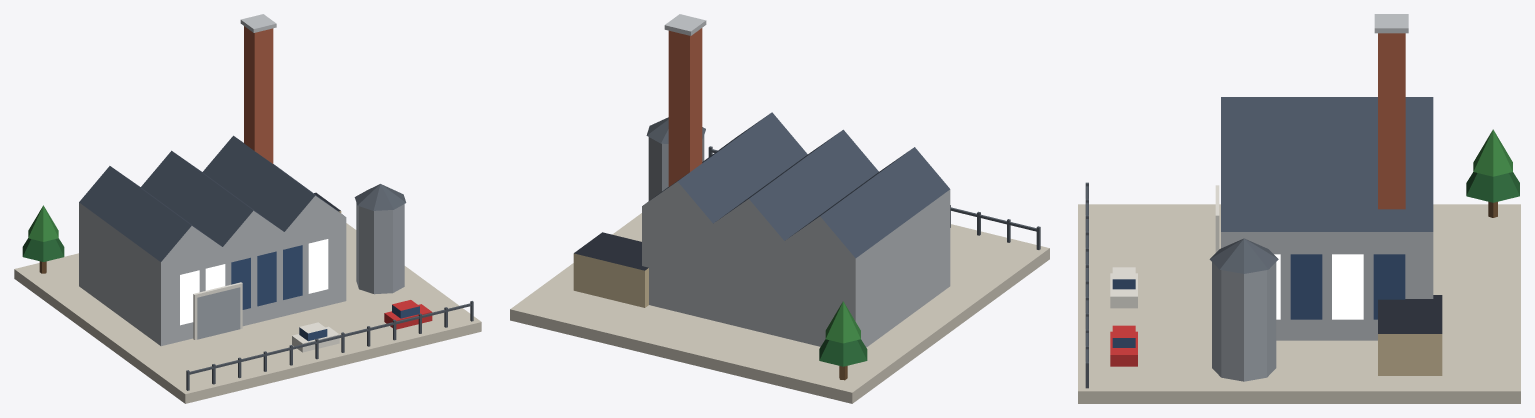
3 views of the same model, side by side, from view 1: azimuth 30°, elevation 25°; view 2: azimuth 150°, elevation 25°; view 3: azimuth 270°, elevation 25° (orthographic). The views are drawn at different scales.
Parts seen in each view (by area): view 1: b37; view 2: b37; view 3: b37.
Boxes of the visible parts, left/top/right/bottom form: b37: left=14, top=14, right=481, bottom=403; b37: left=510, top=14, right=1049, bottom=403; b37: left=1078, top=14, right=1520, bottom=403.
Size of the model in its own units: 0.9675 by 0.762 by 0.96.
